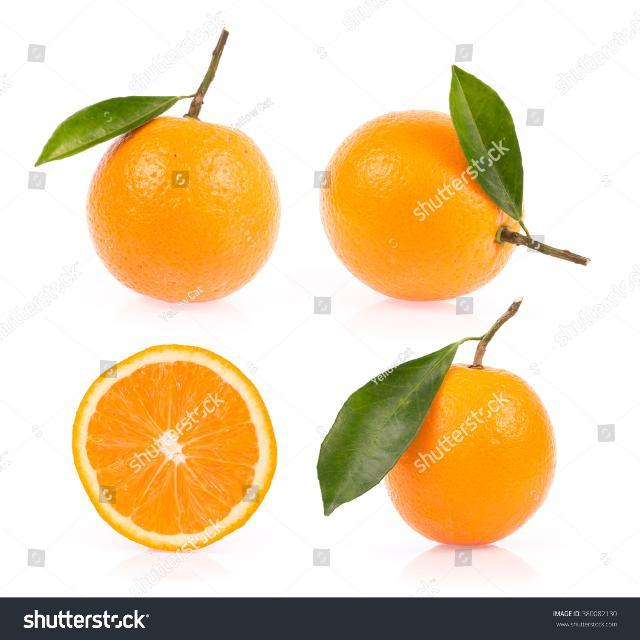Orange: (71, 343, 277, 552), (316, 108, 525, 302), (85, 113, 281, 303), (383, 361, 556, 547)
